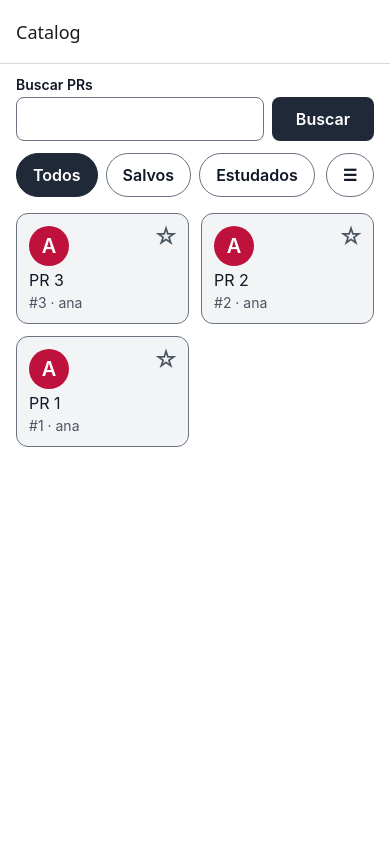
Test: C65 and C31: the term only applies on Buscar, and a result opens its own detail
expect the button with test id "catalog.card.0" is shown: met, box [17,214,188,323]
Type "  fix  " into the field named "Buscar PRs" at (140, 119), box [16,97,264,141]
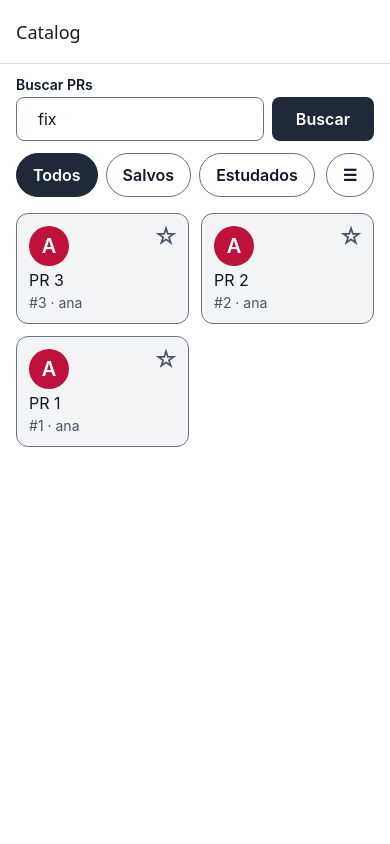
expect the text "PR 3" is shown: met, box [29,270,64,290]
Click the button with test id "catalog.search-submit" at (323, 119), box [272,97,374,141]
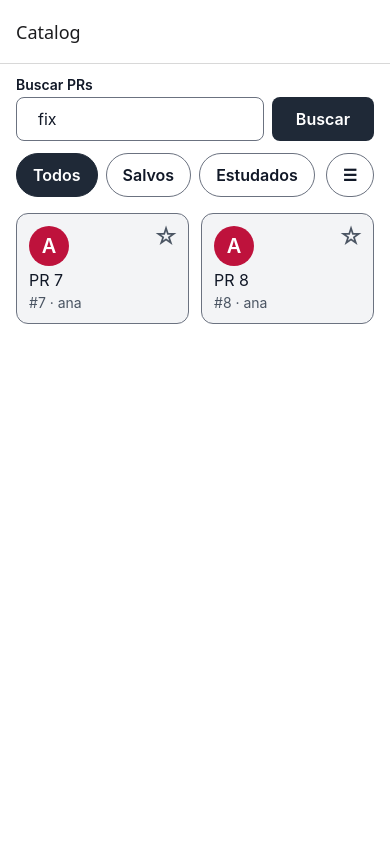
expect the text "Detalhe" is not shown: met
expect the text "PR 8" is shown: met, box [214,270,249,290]
expect the button "PR 3" is gone: met
Click the button with test id "catalog.card.1" at (288, 268), box [202,214,373,323]
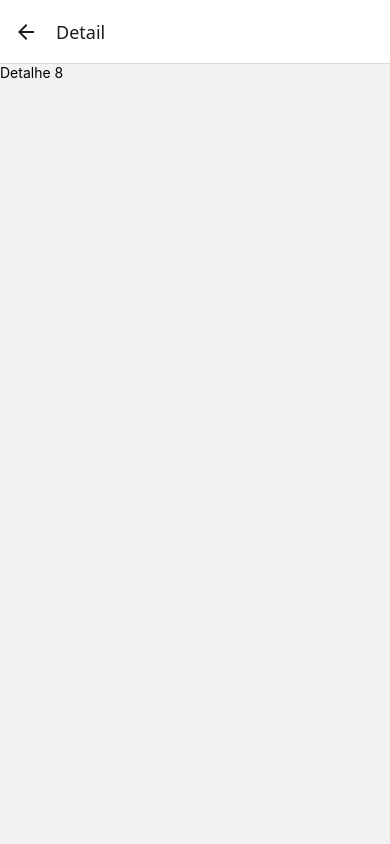
expect the text "Detalhe 8" is shown: met, box [0,64,63,81]
